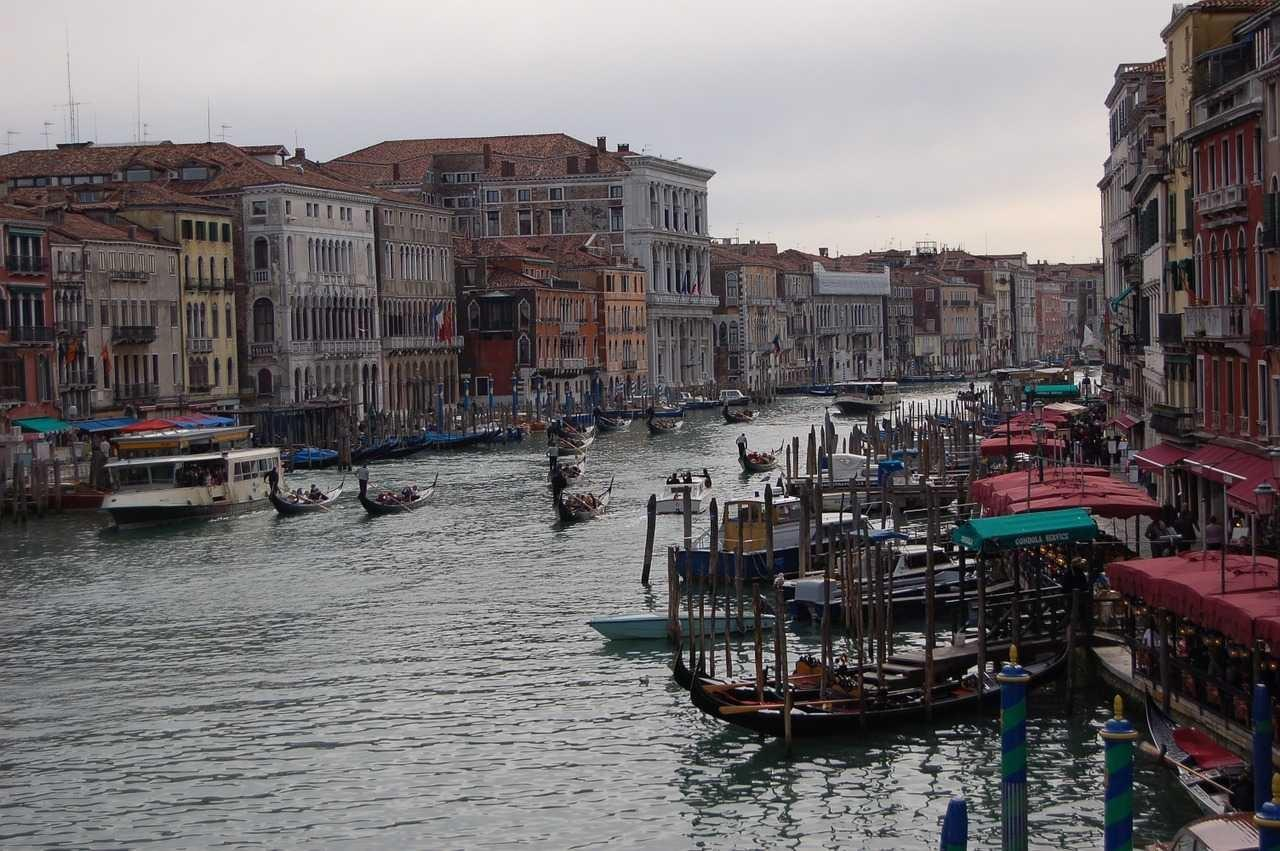kayak: (669, 532, 1073, 742), (1088, 548, 1280, 797), (99, 419, 282, 529), (1144, 703, 1255, 818), (849, 543, 982, 603), (590, 605, 774, 643), (550, 455, 613, 523), (356, 476, 440, 517), (269, 481, 342, 516), (834, 380, 894, 413), (552, 414, 597, 453), (737, 438, 780, 472), (421, 427, 501, 445), (286, 448, 340, 470), (721, 391, 755, 423), (647, 412, 684, 434), (595, 412, 633, 431)
